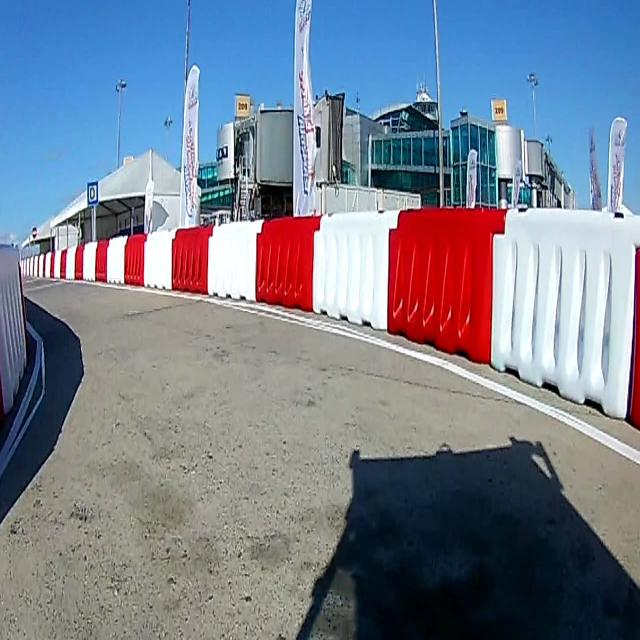durak: (87, 182, 99, 206)
